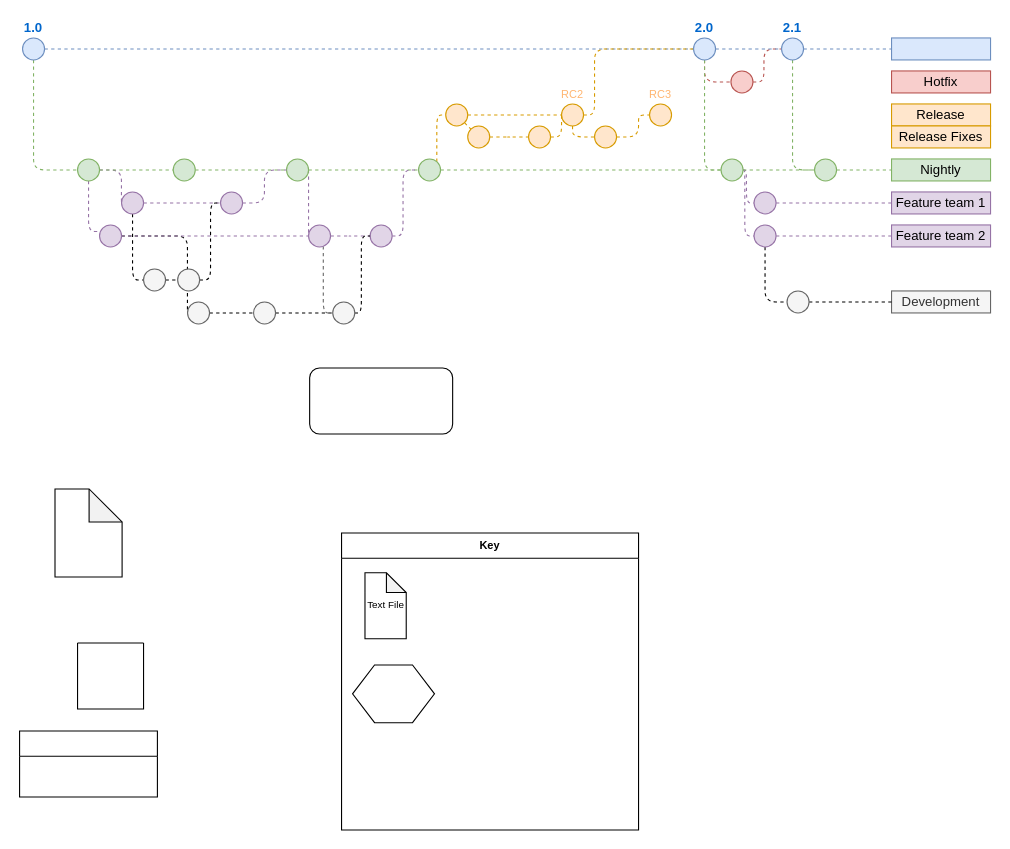
Image size: 1010x849. Some labels were removed from this diagram. Each missing label, with the centre of its shape:
"Directory" belongs at [110,675].
"Makefile" belongs at [393,693].
"Master" belongs at [940,48].
"RC1" belongs at [456,114].
"README.md" belongs at [88,532].
"Script (python/C++/bash/fortran)" belongs at [87,763].
"THDM_T3PS_scanner (top directory)" belongs at [381,400].
